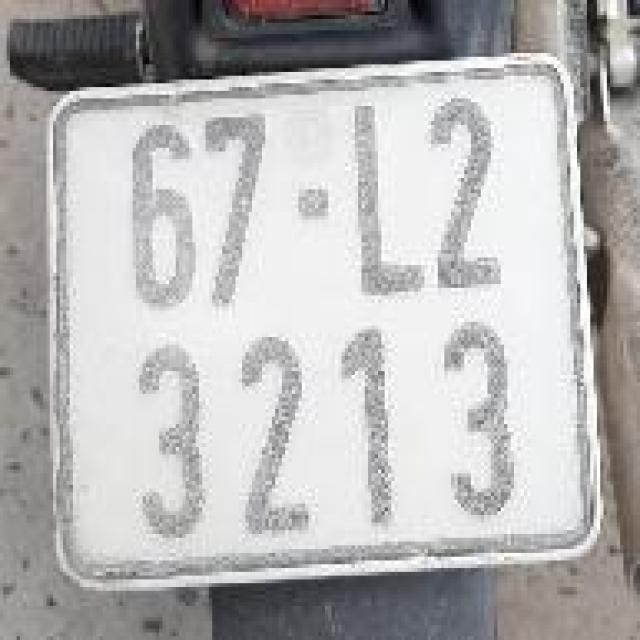1: (341, 316, 408, 544)
2: (419, 76, 509, 306), (230, 324, 320, 543)
3: (428, 312, 520, 532), (130, 324, 212, 543)
6: (125, 118, 198, 318)
7: (199, 103, 275, 314)
L: (317, 89, 429, 305)
